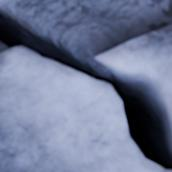broken_brick: (0, 48, 165, 171), (95, 24, 171, 110)
crack: (0, 0, 171, 171)
